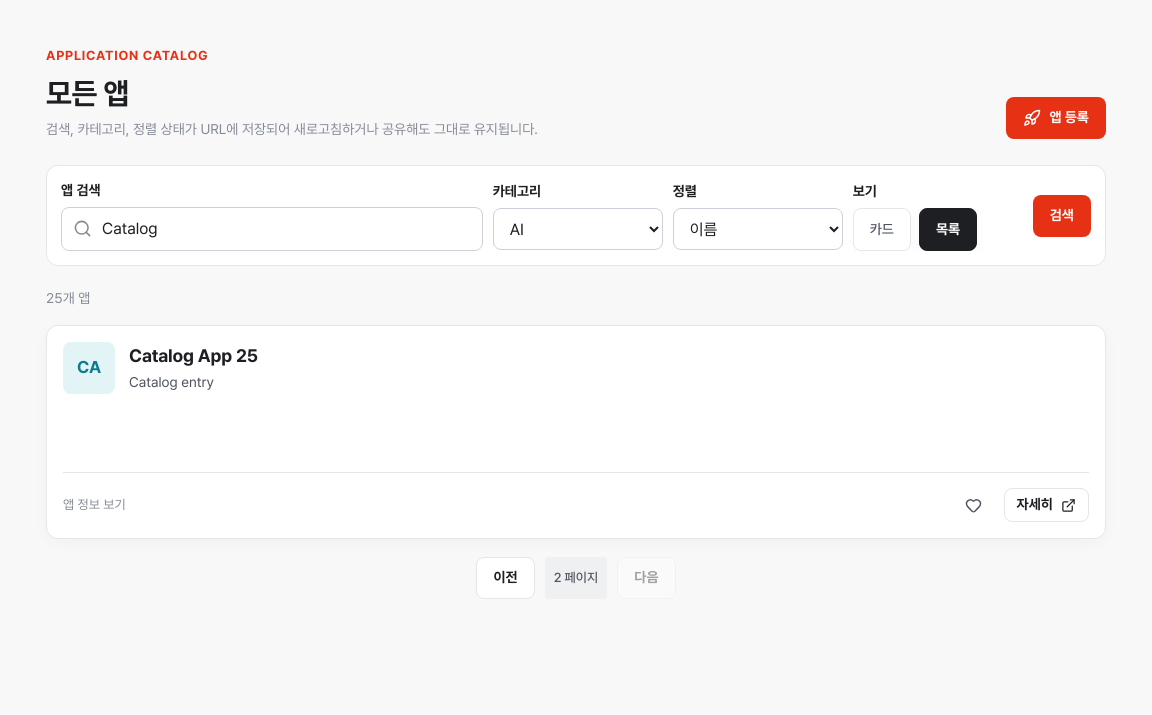
Test: Apps route state › still resets to page one after a search change
The width and height of the screenshot is (1152, 715).
Expected: the heading "Catalog App 25" is shown, top-left (129, 343), bottom-right (258, 369)
Type " App" into the field labelled "앱 검색".
click(272, 229); type(" App")  # box top-left (61, 207), bottom-right (483, 251)
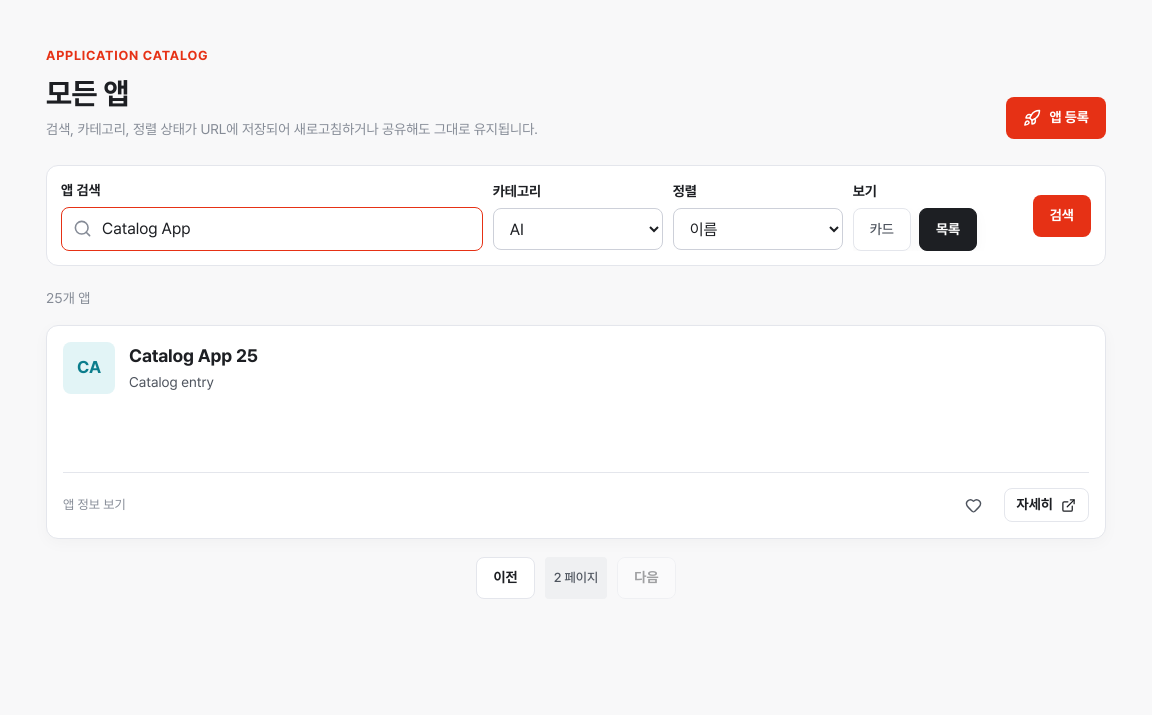
Click the button "검색".
click(1062, 216)  # box top-left (1033, 195), bottom-right (1091, 237)
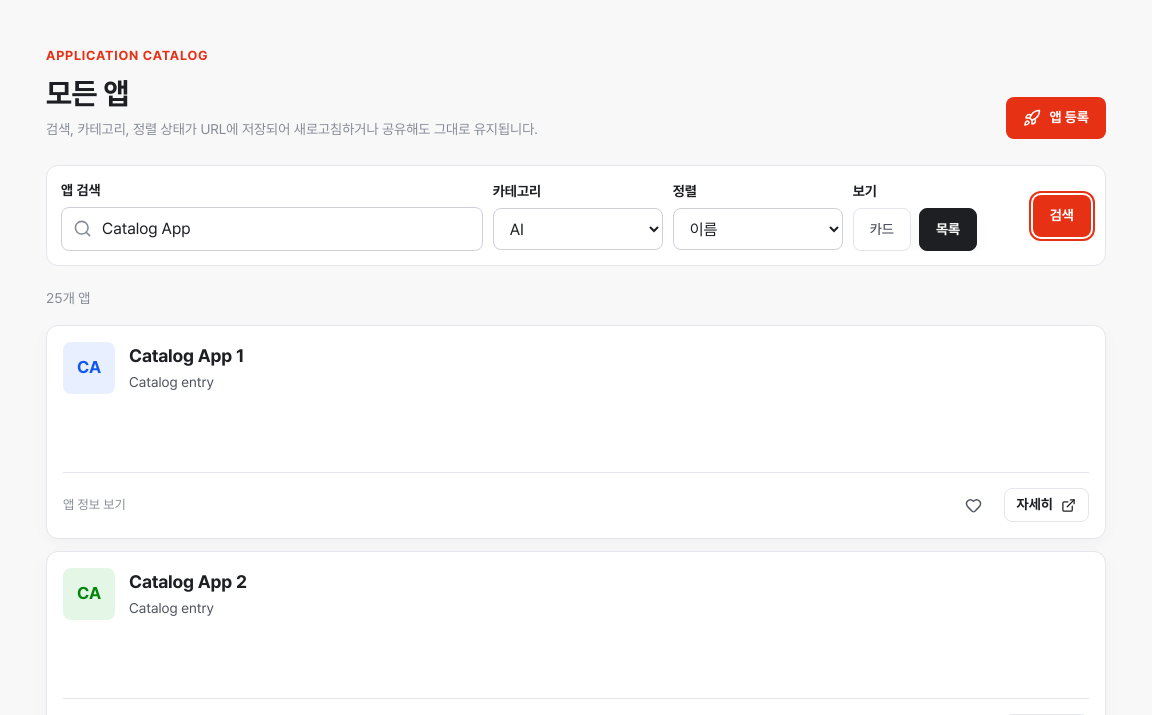
Result: the heading "Catalog App 1" is shown at top-left (129, 343), bottom-right (244, 369)
